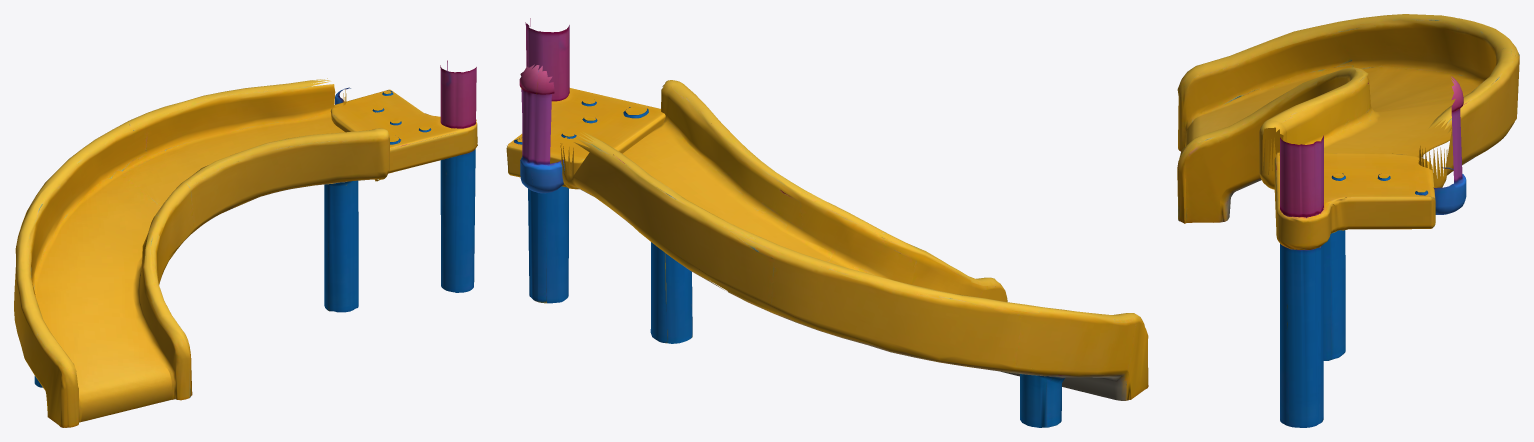
File: curved_slide.glb
3 renders of one model, left to right at view 1: azimuth 30°, elevation 25°; view 2: azimuth 150°, elevation 25°; view 3: azimuth 270°, elevation 25°, orthographic. The views are drawn at different scales.
Size of what is drawn, in the model's own units: 1.97 by 0.9909 by 0.9829.
Materials: 1 (1 with a texture image).
